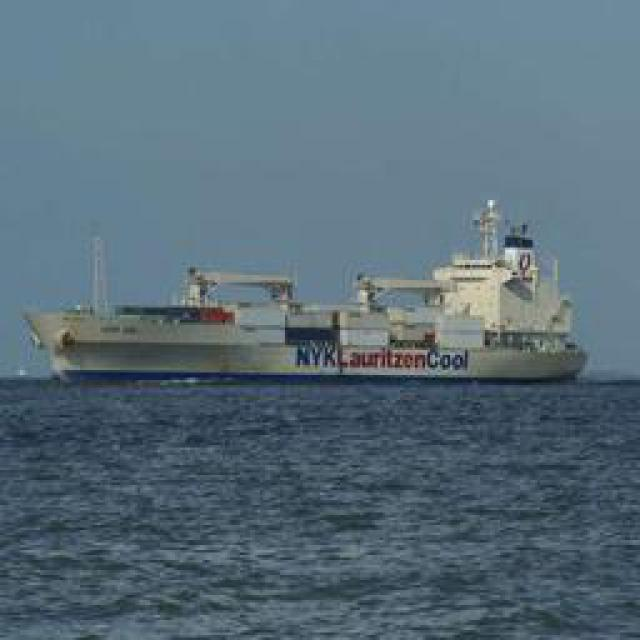Ship: (30, 196, 590, 389)
